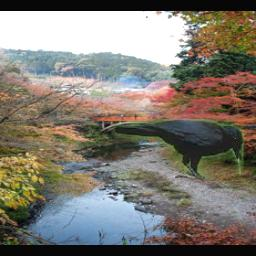Crow: (115, 120, 244, 179)
